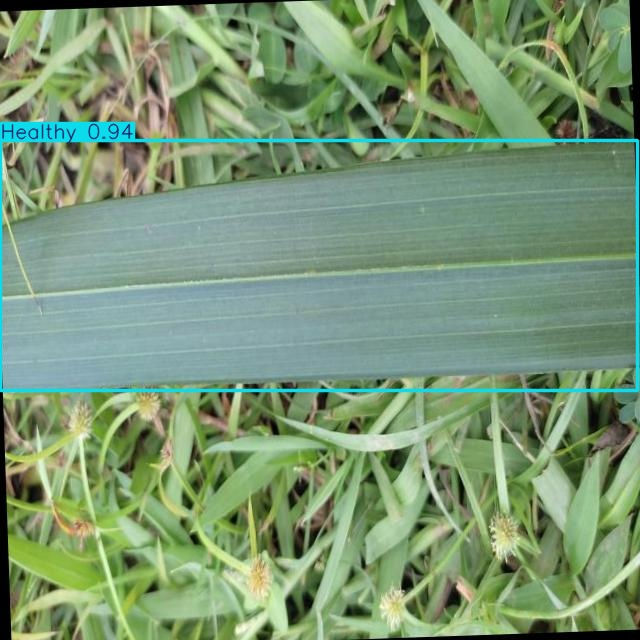Healthy: (0, 140, 637, 391)
